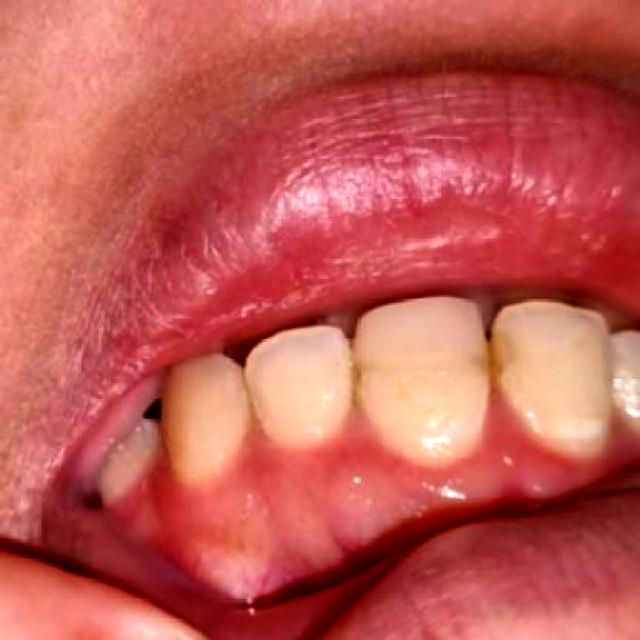Plaque: (459, 331, 516, 396)
